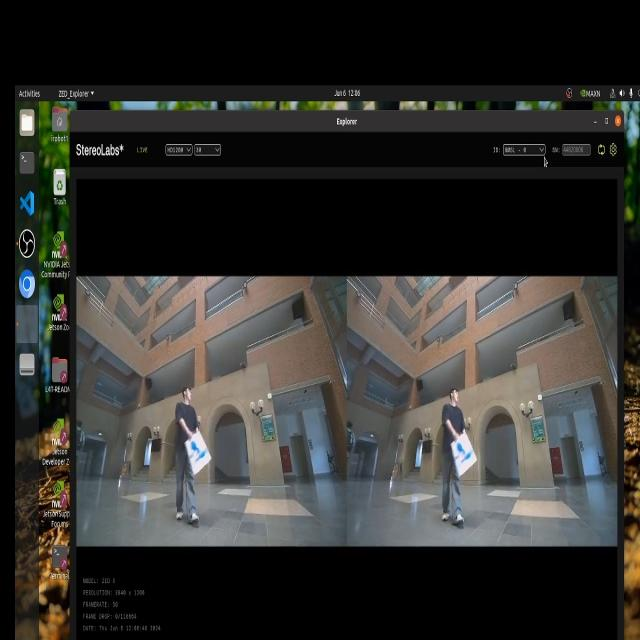blue: (191, 432, 210, 475), (457, 442, 477, 476)
